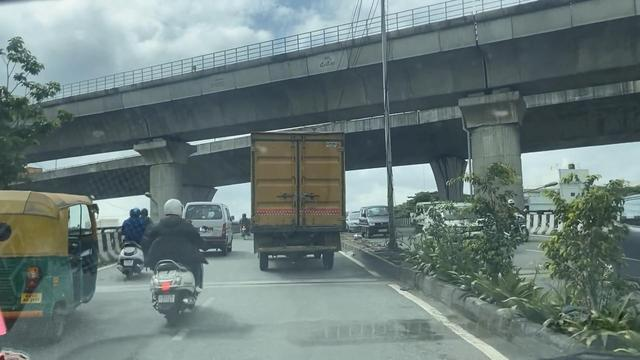HMV: (248, 130, 342, 266)
LMV: (148, 200, 196, 310)
